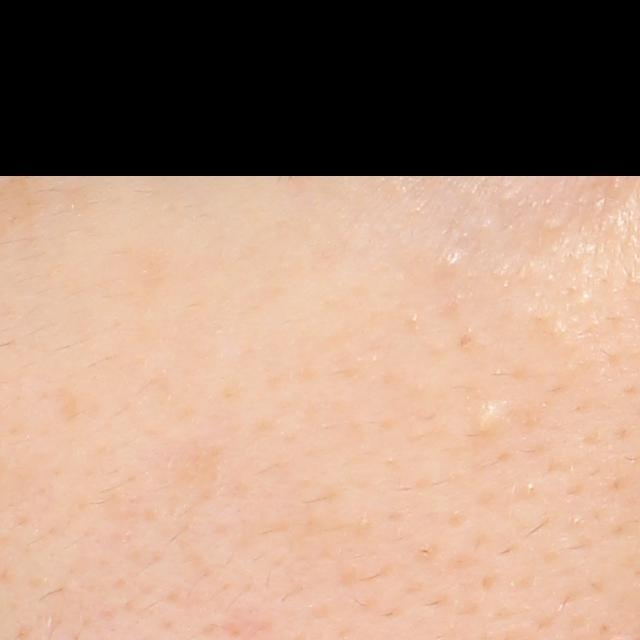comedo: (473, 403, 509, 439), (439, 249, 463, 273)
